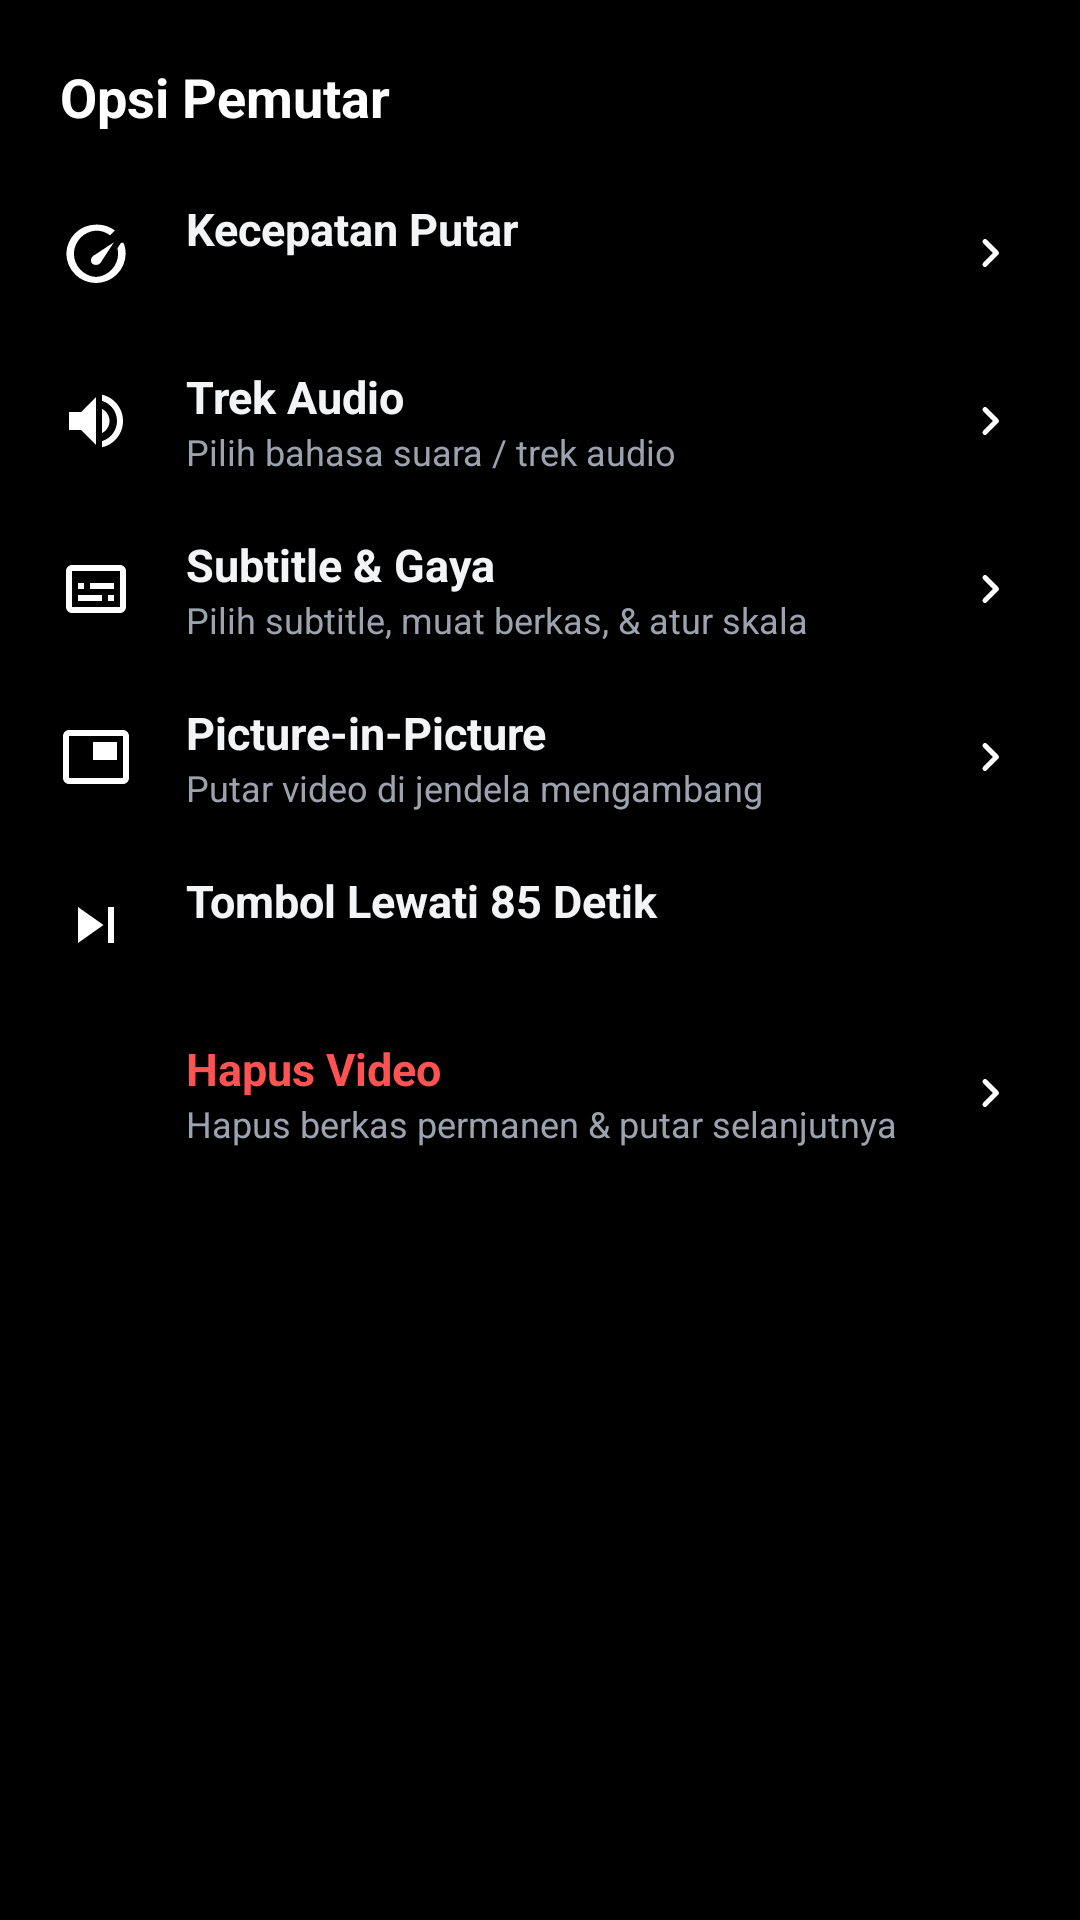

Screen size 1080px x 1920px. Icon name, then its box in pixels as (x1, y1, x2, y2):
chevron right: (982, 239, 999, 267), (982, 407, 999, 435), (982, 575, 999, 603), (982, 743, 999, 771), (982, 1079, 999, 1107)
pip: (63, 730, 129, 784)
skip next: (78, 907, 114, 943)
speed: (66, 224, 126, 283)
subtitles: (66, 565, 126, 613)
volume: (69, 394, 123, 448)
